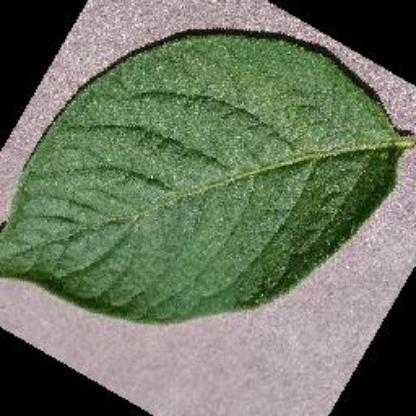Healthy-plant: (2, 29, 416, 327)
